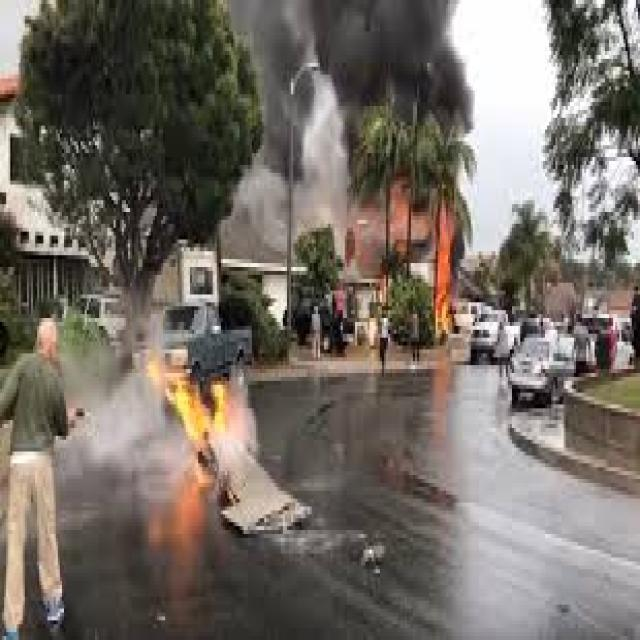Fire: (386, 181, 459, 331), (156, 359, 234, 491)
Smoke: (228, 0, 336, 247), (326, 0, 478, 146)
